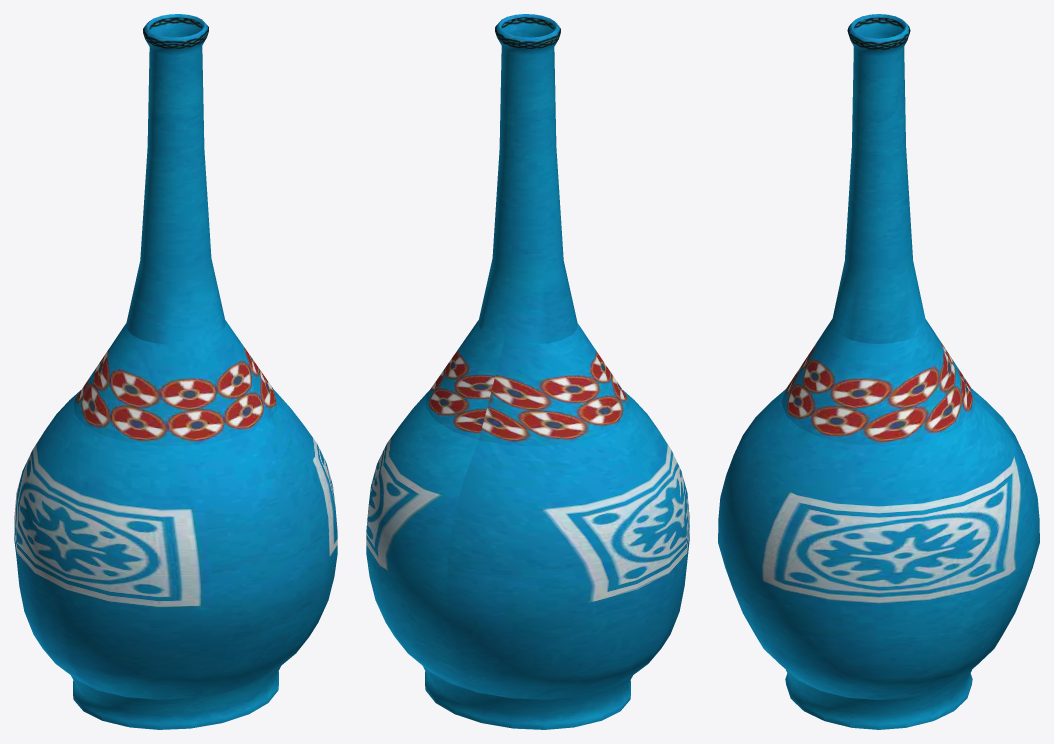
Rendered from Kooze1.fbx.
3 views of the same model, side by side, from view 1: azimuth 30°, elevation 25°; view 2: azimuth 150°, elevation 25°; view 3: azimuth 270°, elevation 25° (orthographic).
Visible parts, largest first — view 1: Kooze1; view 2: Kooze1; view 3: Kooze1.
Part boxes in pixels (box(x1,y1,x2,y2)): Kooze1: box(14, 14, 337, 729); Kooze1: box(366, 14, 689, 729); Kooze1: box(718, 14, 1039, 729).
Size of the model in its own units: 7.29 by 16.44 by 7.25.
